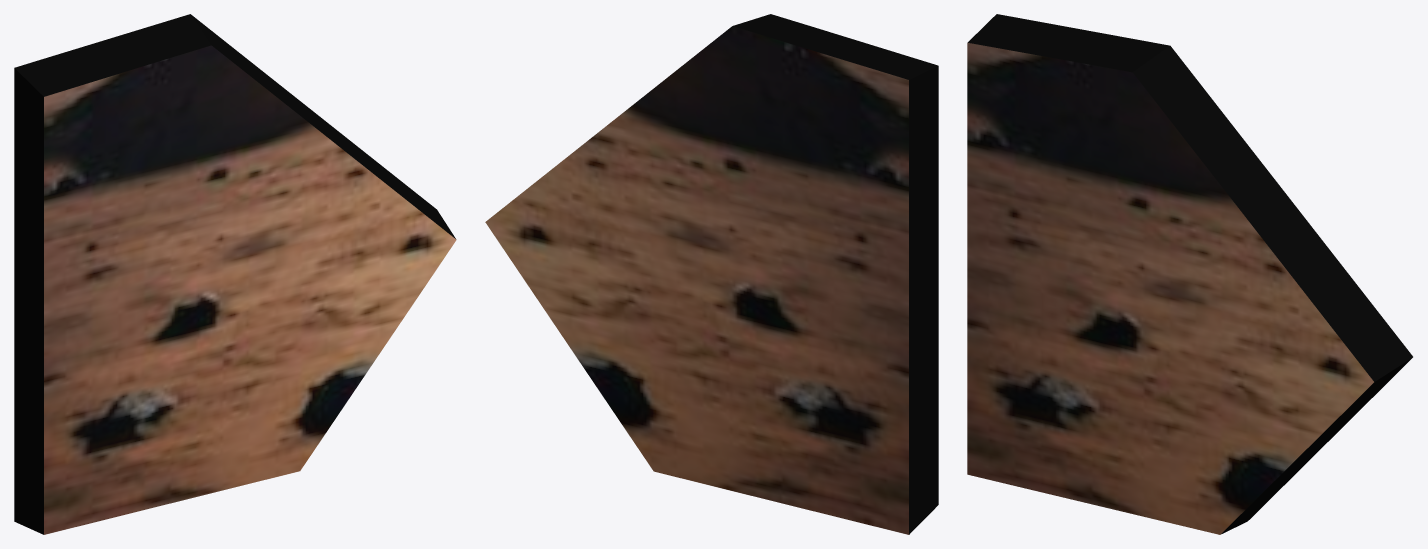
Rendered from Puzzle_2_Cell_06.glb.
3 views of the same model, side by side, from view 1: azimuth 30°, elevation 25°; view 2: azimuth 150°, elevation 25°; view 3: azimuth 330°, elevation 25° (orthographic).
Parts seen in each view (by area): view 1: Puzzle_1_cell.006; view 2: Puzzle_1_cell.006; view 3: Puzzle_1_cell.006.
Boxes of the visible parts, x1=… form: Puzzle_1_cell.006: x1=14, y1=14, x2=456, y2=534; Puzzle_1_cell.006: x1=485, y1=14, x2=938, y2=534; Puzzle_1_cell.006: x1=967, y1=14, x2=1412, y2=534.
Bounding box in the file's own units: 1.23 × 1.3 × 0.15.
2 materials, 1 textured.
